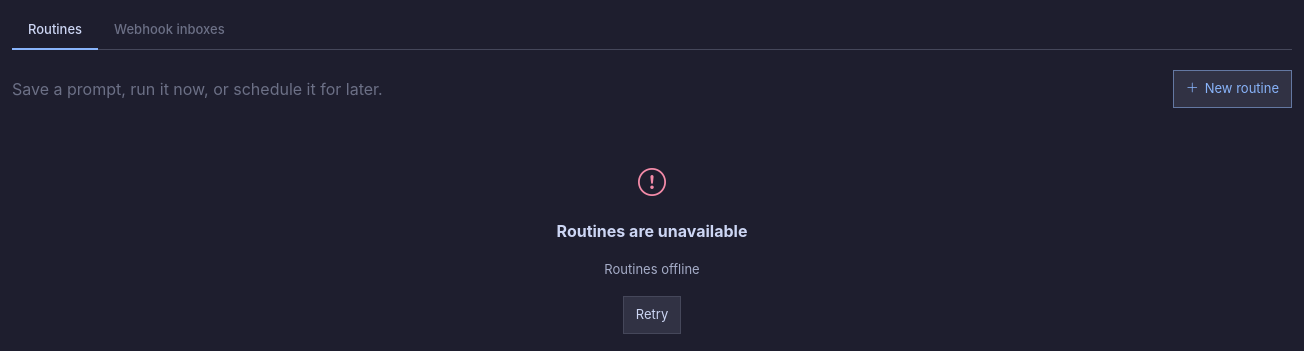
Routines › shows a dedicated failure with retry instead of a false empty routine list
This screenshot has width=1304, height=351.
Check: the heading "Routines are unavailable" is shown, box [557,219,747,243]
Click the button "Retry" at {"x": 652, "y": 315}, box [623,296,681,334]
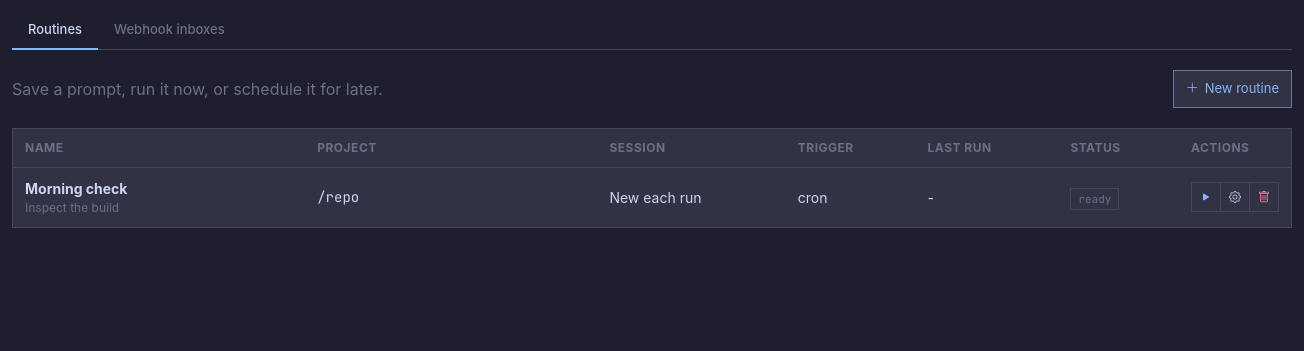
Check: the row named "View Morning check history" is shown, box [13,167,1291,226]
